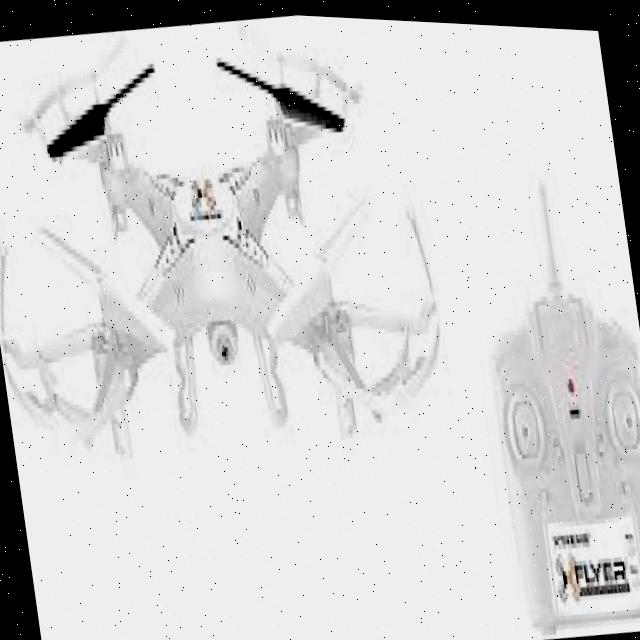drone: (0, 0, 474, 571)
